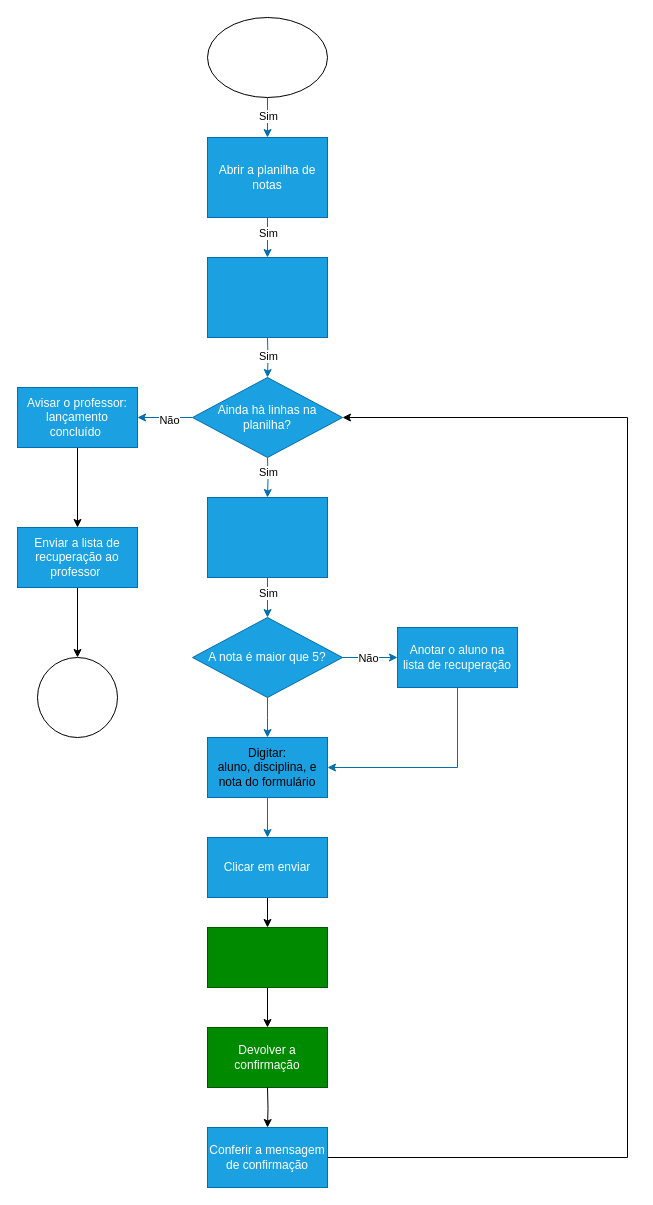
Some shapes in this 653 by 1205 pixel diagram are drawn without their labels. Here are the shapes that lost their labels. From the top down, the centre of each, then its label:
the point at 267,57: INICIO
the point at 267,297: Abrir o formulário do sistema acadêmico
the point at 267,537: Ler a próxima linha: aluno, disciplina e nota
the point at 77,697: Fim
the point at 267,957: Registrar o lançamento
